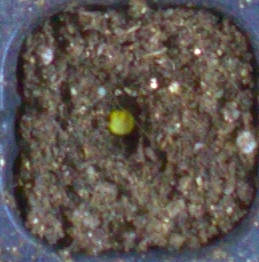chilli seed: (108, 109, 134, 134)
